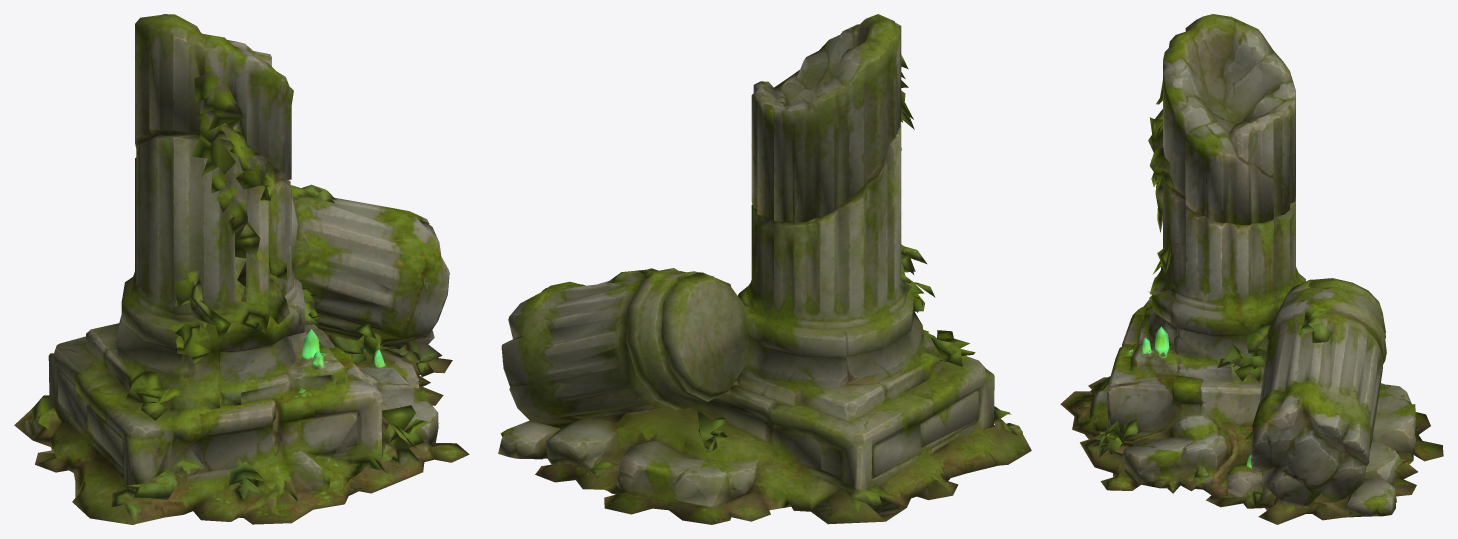
Rendered from decor_2.fbx.
The picture shows the model from 3 angles, left to right: view 1: azimuth 30°, elevation 25°; view 2: azimuth 150°, elevation 25°; view 3: azimuth 270°, elevation 25°; orthographic projection. The views are drawn at different scales.
Visible parts, largest first — view 1: decor_2; view 2: decor_2; view 3: decor_2.
Part boxes in pixels (bbox=[...]): decor_2: bbox=[14, 14, 469, 524]; decor_2: bbox=[498, 14, 1031, 524]; decor_2: bbox=[1060, 14, 1443, 524].
Bounding box in the file's own units: 1.6 × 1.56 × 1.44.
1 material, 1 textured.
